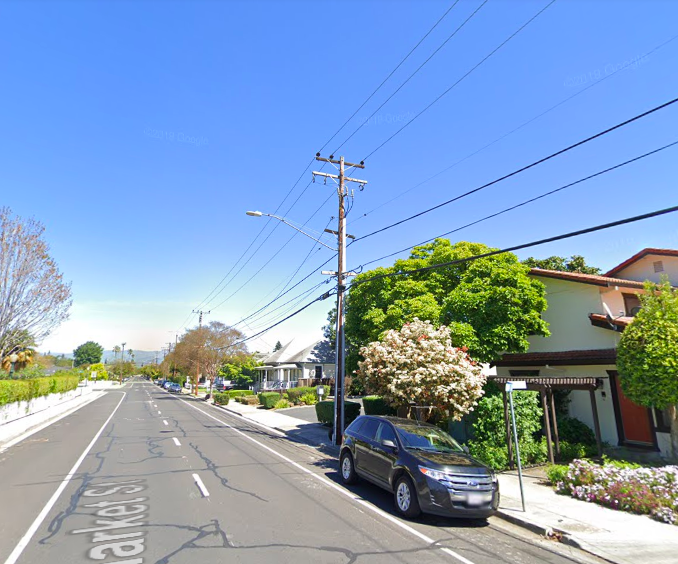utility_pole: (305, 145, 372, 201)
